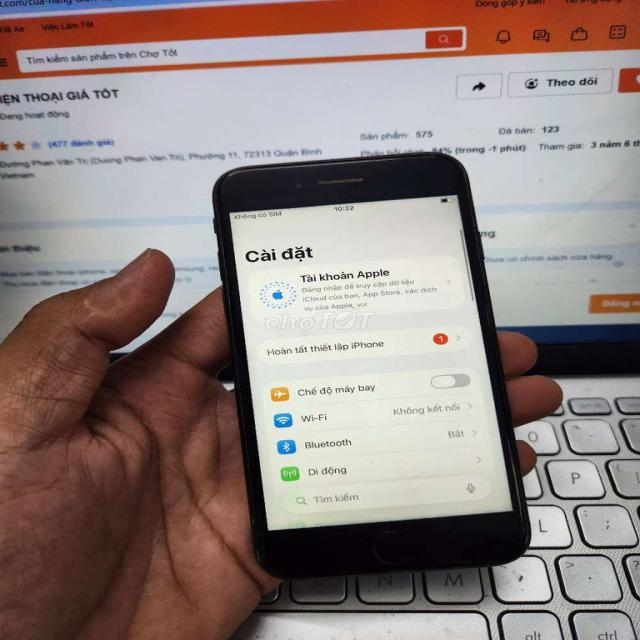gen_7_8: (203, 150, 534, 580)
